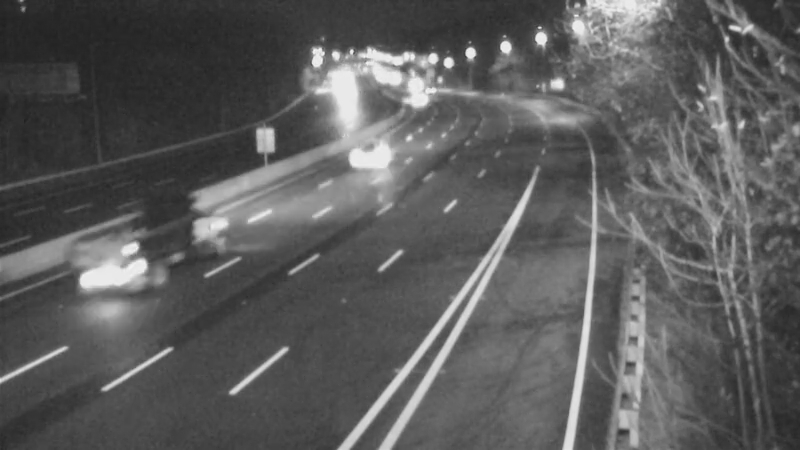vehicle: (344, 114, 424, 194), (89, 209, 169, 289), (403, 65, 453, 115), (392, 72, 442, 122)
